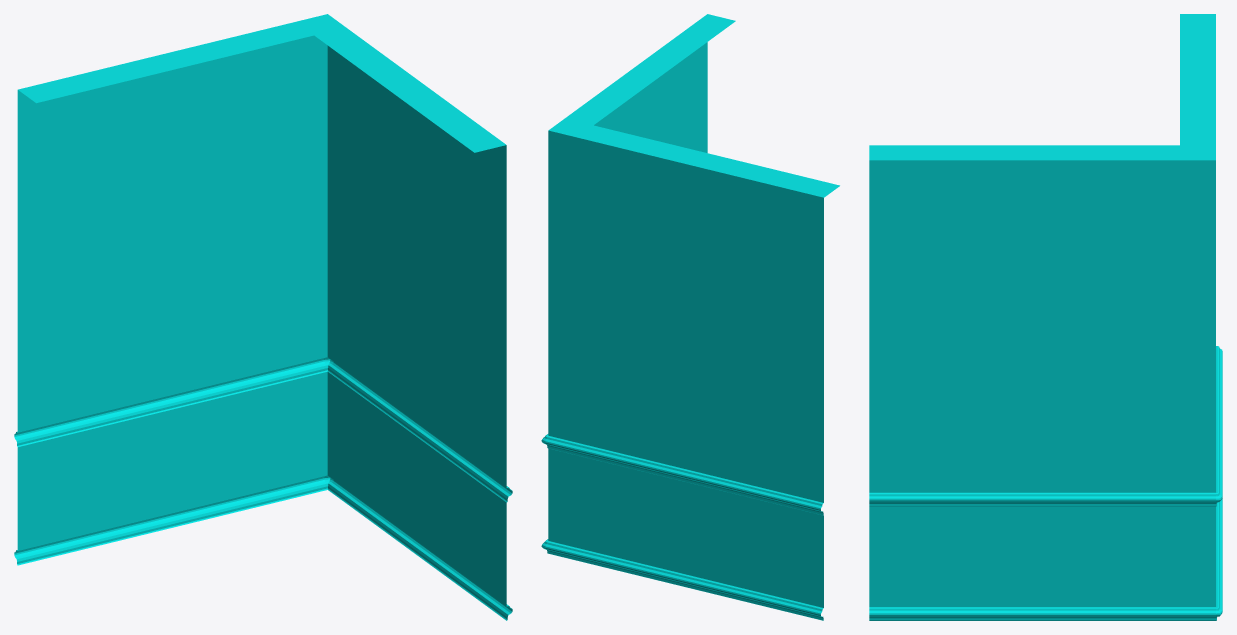
Rendered from ModWallCorner.fbx.
The picture shows the model from 3 angles, left to right: view 1: azimuth 30°, elevation 25°; view 2: azimuth 150°, elevation 25°; view 3: azimuth 270°, elevation 25°; orthographic projection. The views are drawn at different scales.
Parts seen in each view (by area): view 1: ModWallCorner; view 2: ModWallCorner; view 3: ModWallCorner.
Boxes of the visible parts, x1,y1,x2,y2 form: ModWallCorner: (14,14,512,620); ModWallCorner: (541,14,839,620); ModWallCorner: (869,14,1222,620).
Size of the model in its own units: 250 by 360 by 250.
